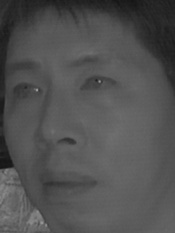eye: (76, 71, 118, 97), (6, 80, 46, 104)
mouth: (33, 162, 96, 205)
